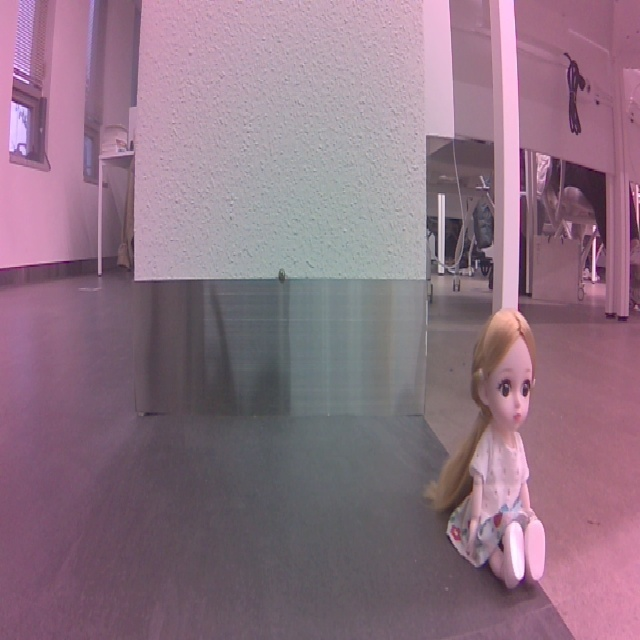장애물: (430, 306, 567, 596)
